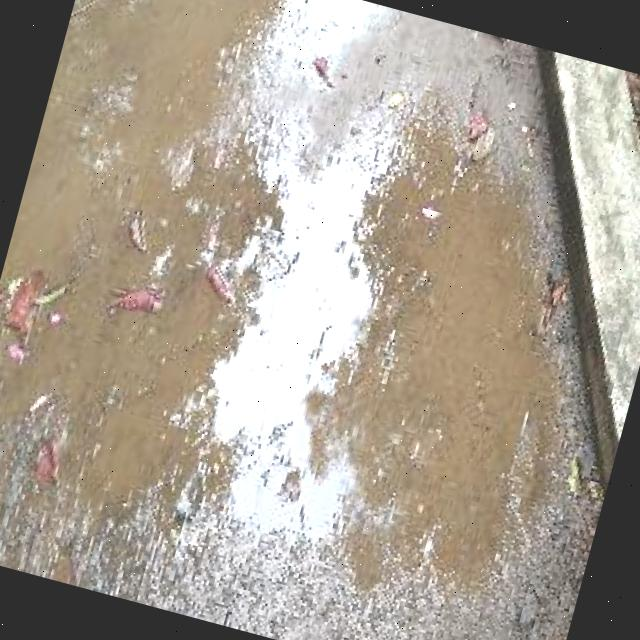stagnation: (0, 6, 580, 640)
